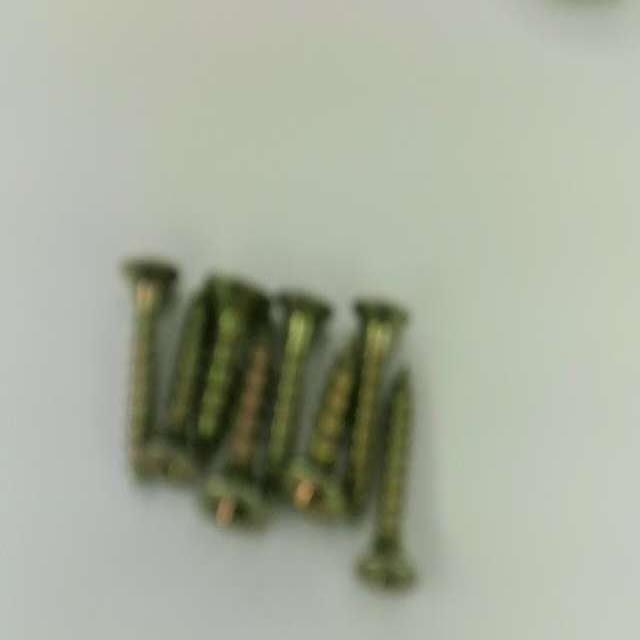Parafuso: (344, 299, 407, 513), (204, 325, 271, 524), (284, 339, 357, 515), (195, 276, 267, 451), (266, 291, 330, 487), (358, 369, 414, 587), (149, 288, 211, 479), (124, 257, 176, 473)
